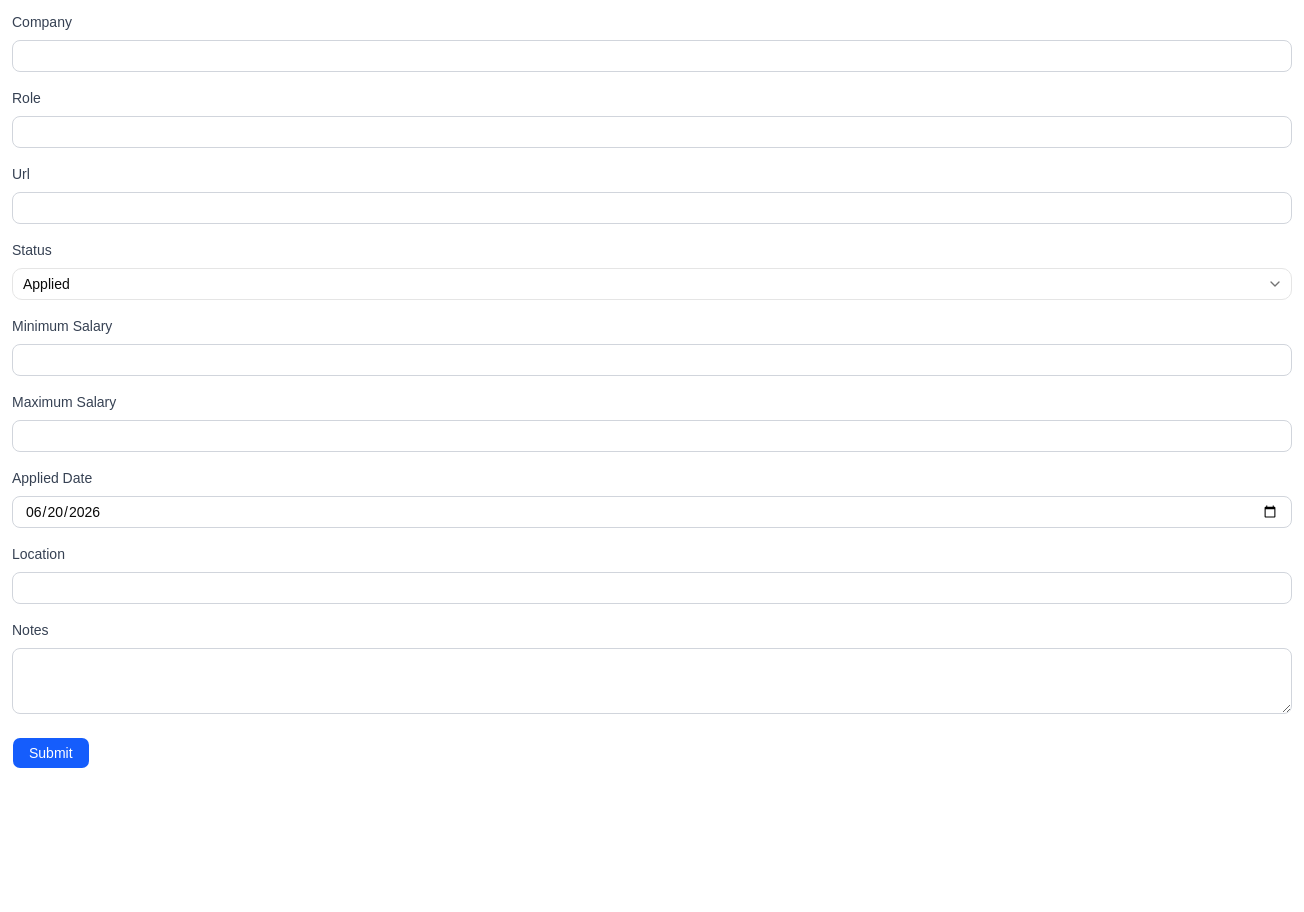
Test case: ApplicationForm › shows a validation error when company is empty
This screenshot has width=1304, height=912.
Click the button "Submit" at {"x": 51, "y": 753}, box [12,737,90,769]
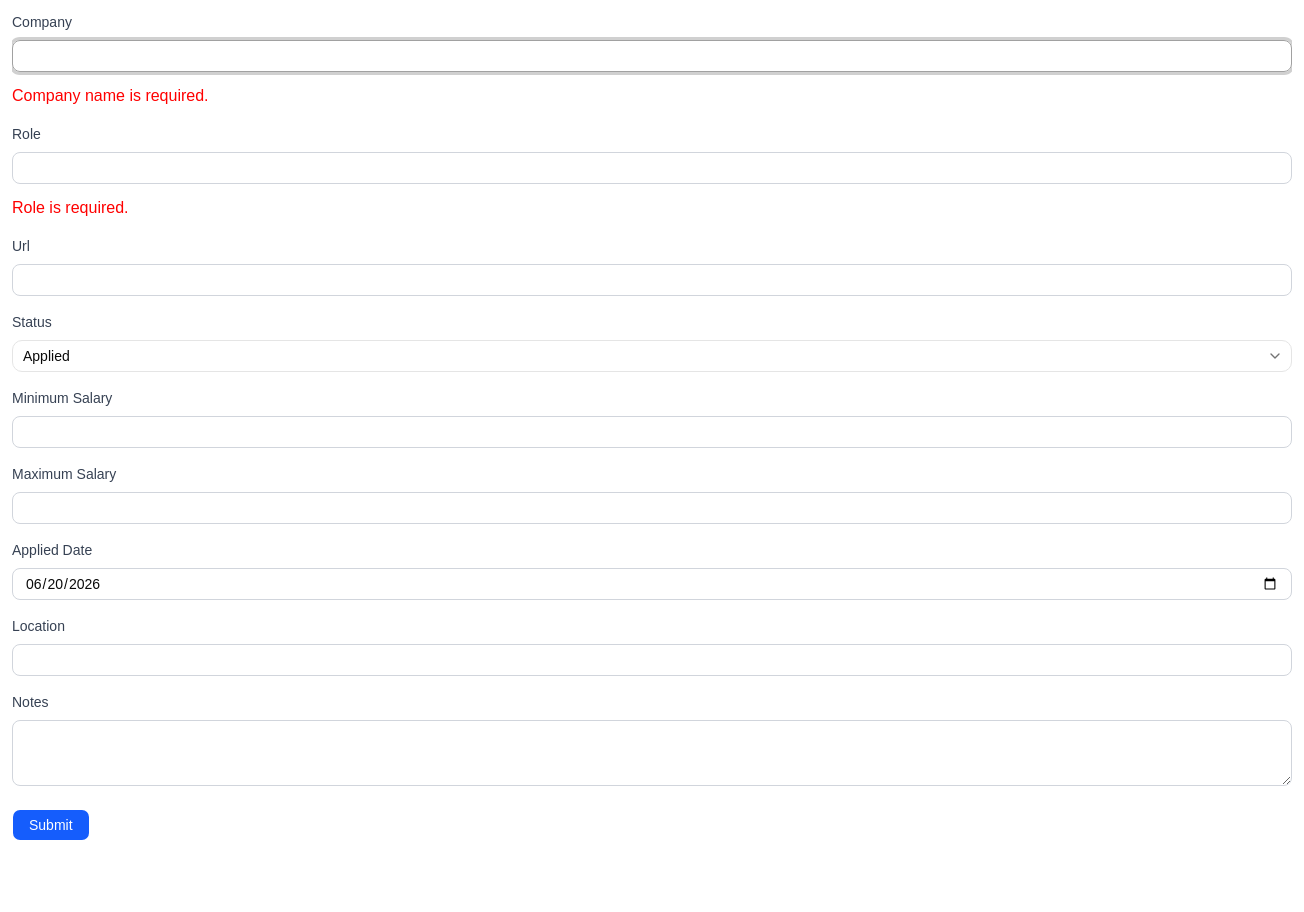
Check: the text "Company name is required." is shown, box [12,87,208,104]
